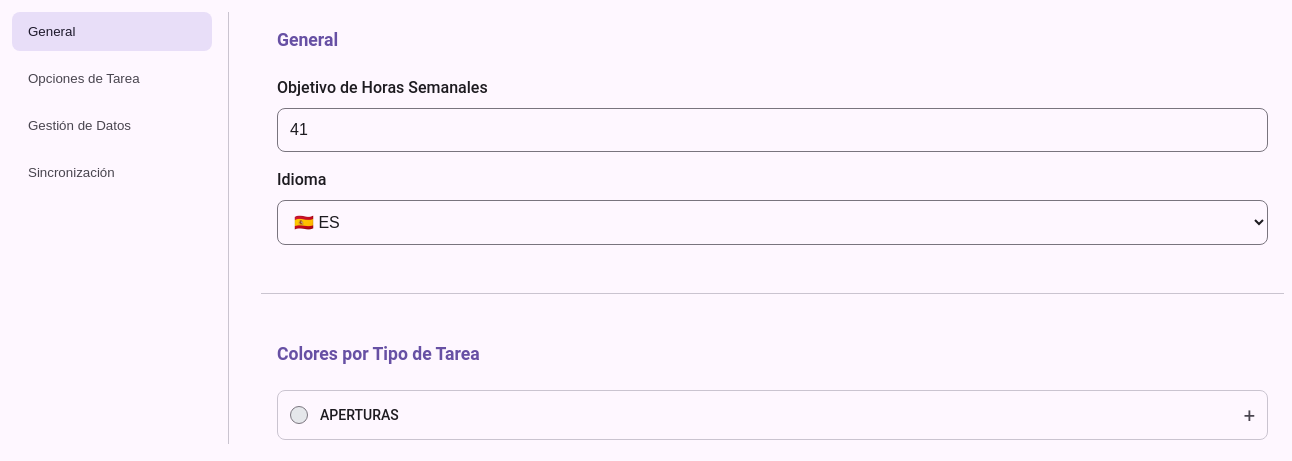
Test case: Settings Tabs › should switch content when clicking "Task Options" tab
Click the button "Opciones de Tarea".
click(112, 78)  # box x1=12 y1=59 x2=212 y2=98
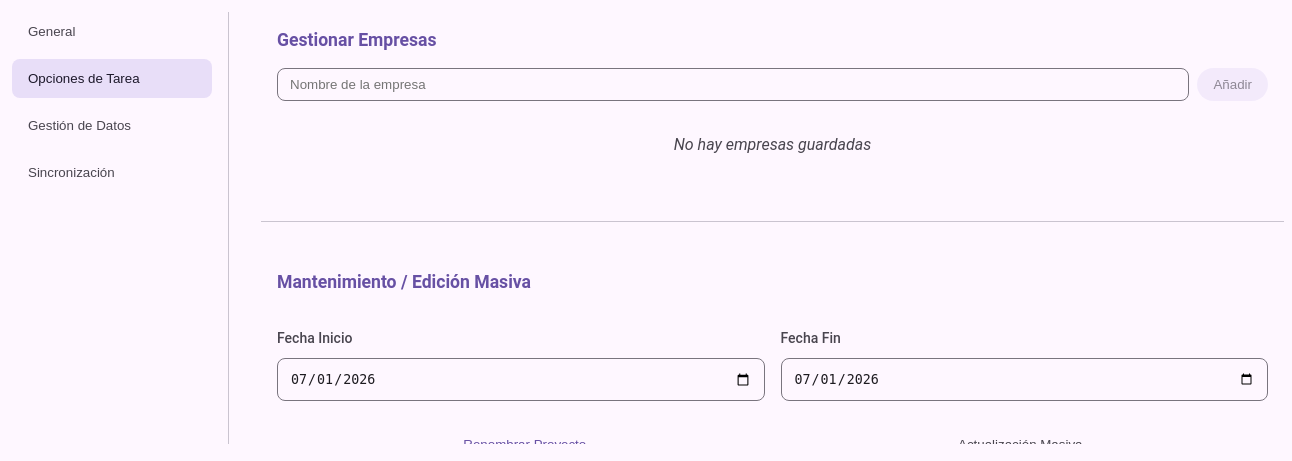
Expected: the heading "Gestionar Empresas" is shown, x1=277 y1=30 x2=436 y2=50
Expected: the heading "Mantenimiento / Edición Masiva" is shown, x1=277 y1=272 x2=531 y2=292
Expected: the label labelled "Objetivo de Horas Semanales" is gone
